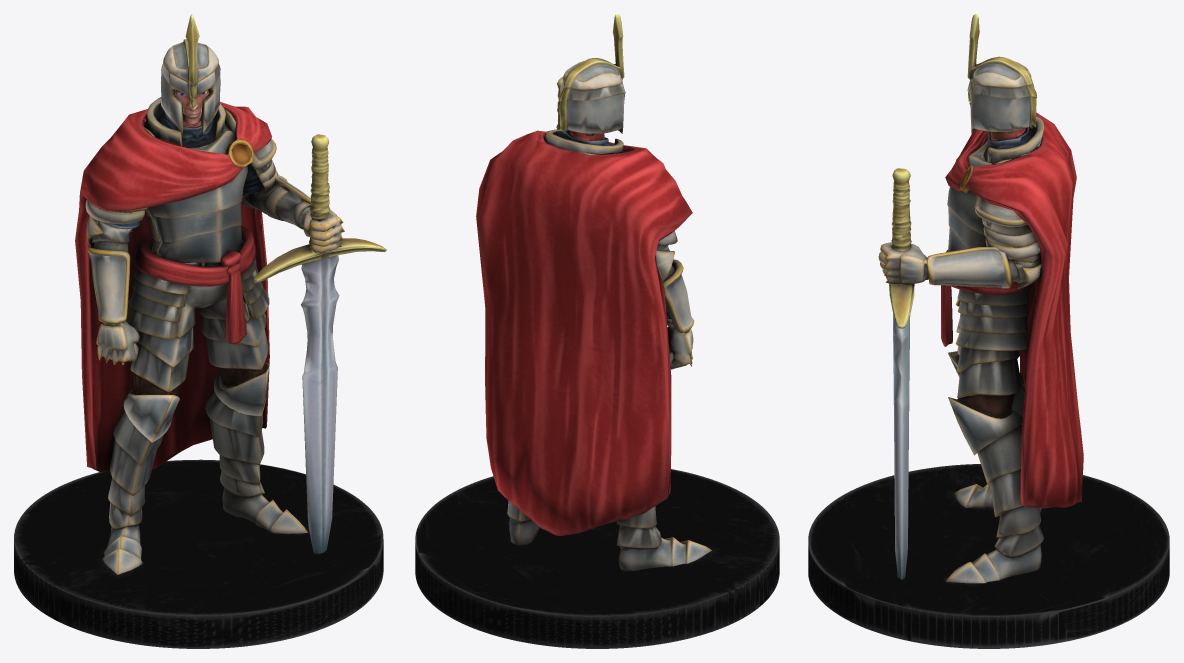
File: MZ4250 - Champion.glb
3 views of the same model, side by side, from view 1: azimuth 30°, elevation 25°; view 2: azimuth 150°, elevation 25°; view 3: azimuth 270°, elevation 25° (orthographic). The views are drawn at different scales.
Parts seen in each view (by area): view 1: base_low.001, body_low.001, cape_low.001, sword_low.001, torus_low.001, helm_low.001, head_low.001; view 2: cape_low.001, base_low.001, body_low.001, helm_low.001; view 3: base_low.001, body_low.001, cape_low.001, sword_low.001, helm_low.001, torus_low.001.
Boxes of the visible parts, left/top/right/bottom form: base_low.001: left=14, top=459, right=383, bottom=648; body_low.001: left=85, top=97, right=344, bottom=574; cape_low.001: left=75, top=102, right=271, bottom=471; sword_low.001: left=253, top=134, right=386, bottom=553; torus_low.001: left=134, top=226, right=256, bottom=344; helm_low.001: left=161, top=14, right=220, bottom=133; head_low.001: left=175, top=89, right=208, bottom=127; cape_low.001: left=476, top=130, right=692, bottom=535; base_low.001: left=415, top=469, right=779, bottom=648; body_low.001: left=507, top=129, right=711, bottom=571; helm_low.001: left=559, top=14, right=625, bottom=133; base_low.001: left=808, top=464, right=1169, bottom=648; body_low.001: left=878, top=116, right=1044, bottom=583; cape_low.001: left=945, top=112, right=1083, bottom=508; sword_low.001: left=889, top=168, right=914, bottom=579; helm_low.001: left=967, top=14, right=1036, bottom=133; torus_low.001: left=940, top=249, right=1030, bottom=346.
Size of the model in its own units: 1.9 by 3.21 by 1.9.
Materials: 1 (1 with a texture image).
